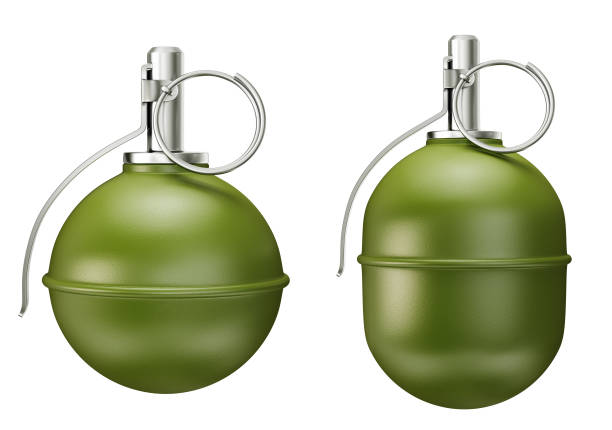e1: (21, 48, 290, 397), (338, 30, 576, 414)
